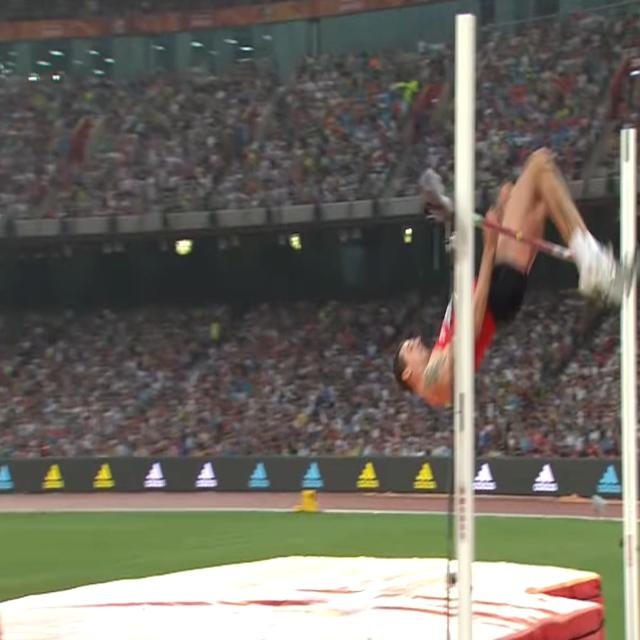jump: (392, 145, 638, 408)
